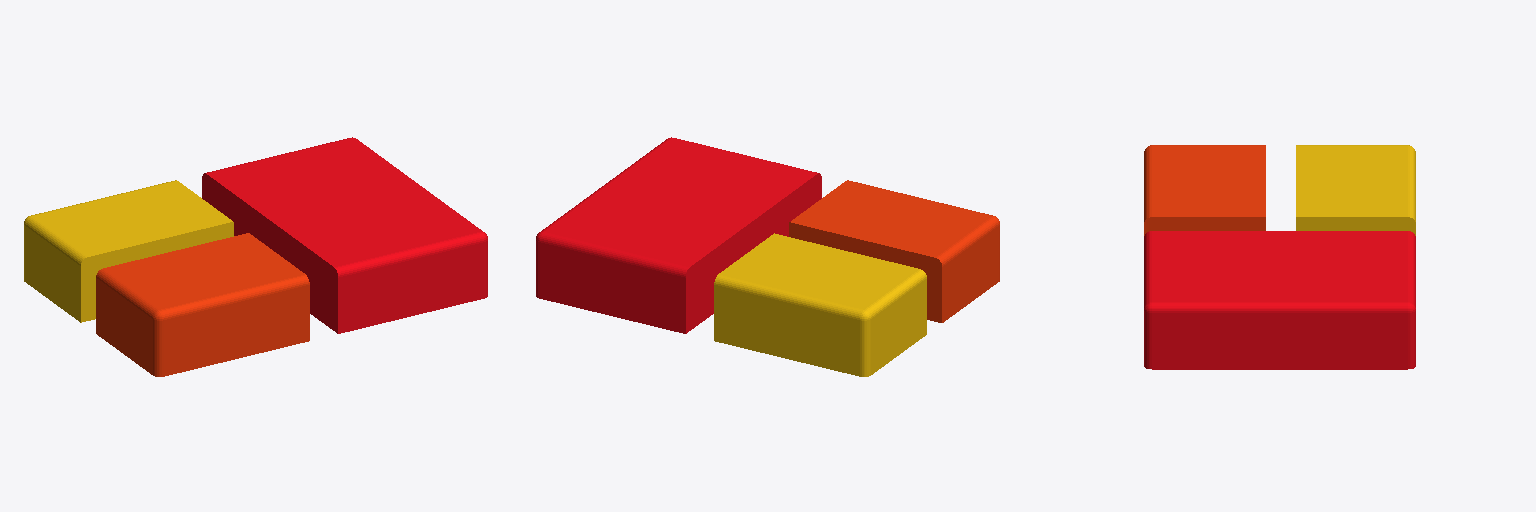
File: weplate.obj
3 renders of one model, left to right at view 1: azimuth 30°, elevation 25°; view 2: azimuth 150°, elevation 25°; view 3: azimuth 270°, elevation 25°, orthographic.
Visible parts, largest first — view 1: Right_Cube.001, Left_Bottom_Cube.004, Left_Top_Cube.005; view 2: Right_Cube.001, Left_Top_Cube.005, Left_Bottom_Cube.004; view 3: Right_Cube.001, Left_Bottom_Cube.004, Left_Top_Cube.005.
Boxes of the visible parts, box(x1,y1,x2,y2) form: Right_Cube.001: box(202, 137, 487, 333); Left_Bottom_Cube.004: box(96, 233, 309, 376); Left_Top_Cube.005: box(24, 180, 233, 322); Right_Cube.001: box(536, 137, 821, 333); Left_Top_Cube.005: box(714, 233, 926, 376); Left_Bottom_Cube.004: box(789, 180, 999, 322); Right_Cube.001: box(1144, 231, 1415, 369); Left_Bottom_Cube.004: box(1144, 145, 1265, 235); Left_Top_Cube.005: box(1296, 145, 1415, 235).
Size of the model in its own units: 4.32 by 0.7895 by 3.04.